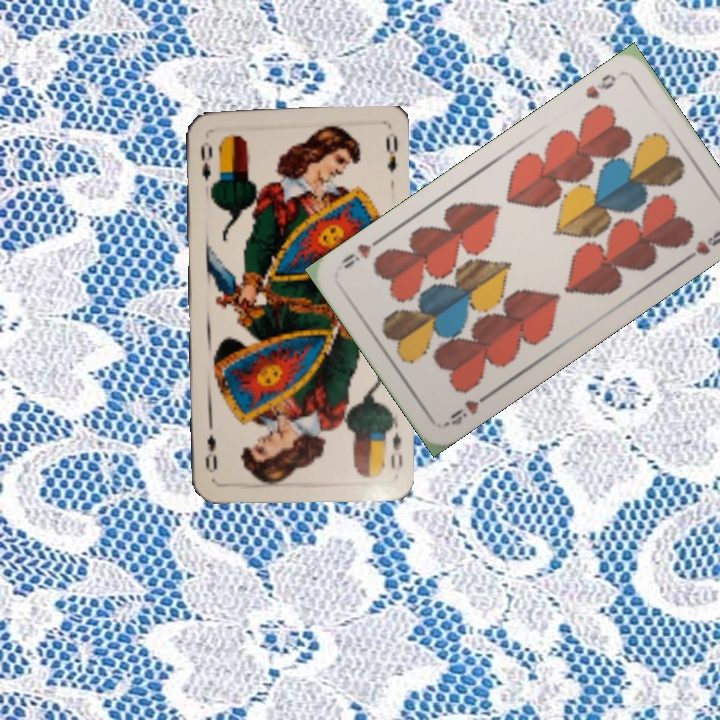EO: (197, 138, 215, 184), (387, 428, 405, 471)
H9: (440, 389, 493, 429), (581, 69, 619, 102)
